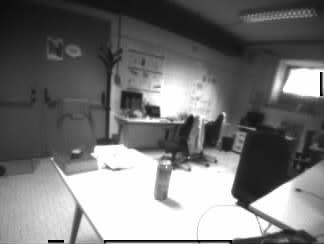Tin can: (155, 160, 170, 200)
